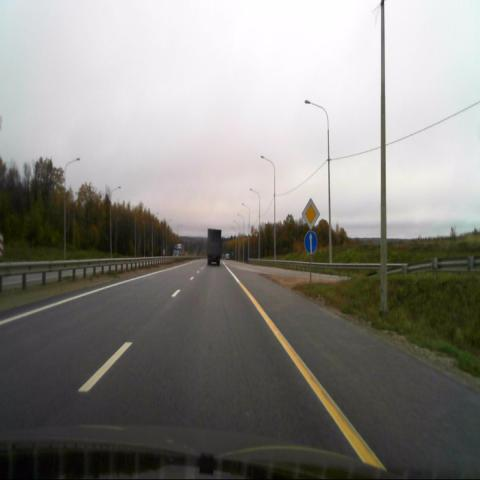2_1: (302, 199, 320, 229)
4_1_1: (304, 232, 317, 254)
